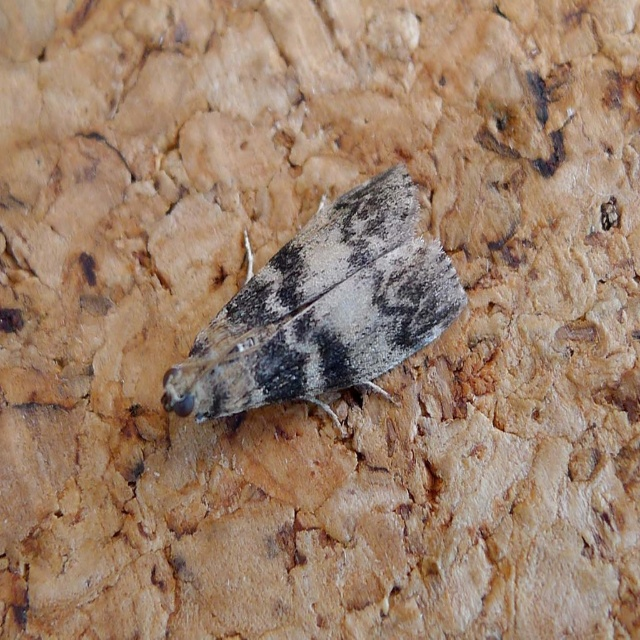Moths and butterflies: (159, 158, 470, 436)
